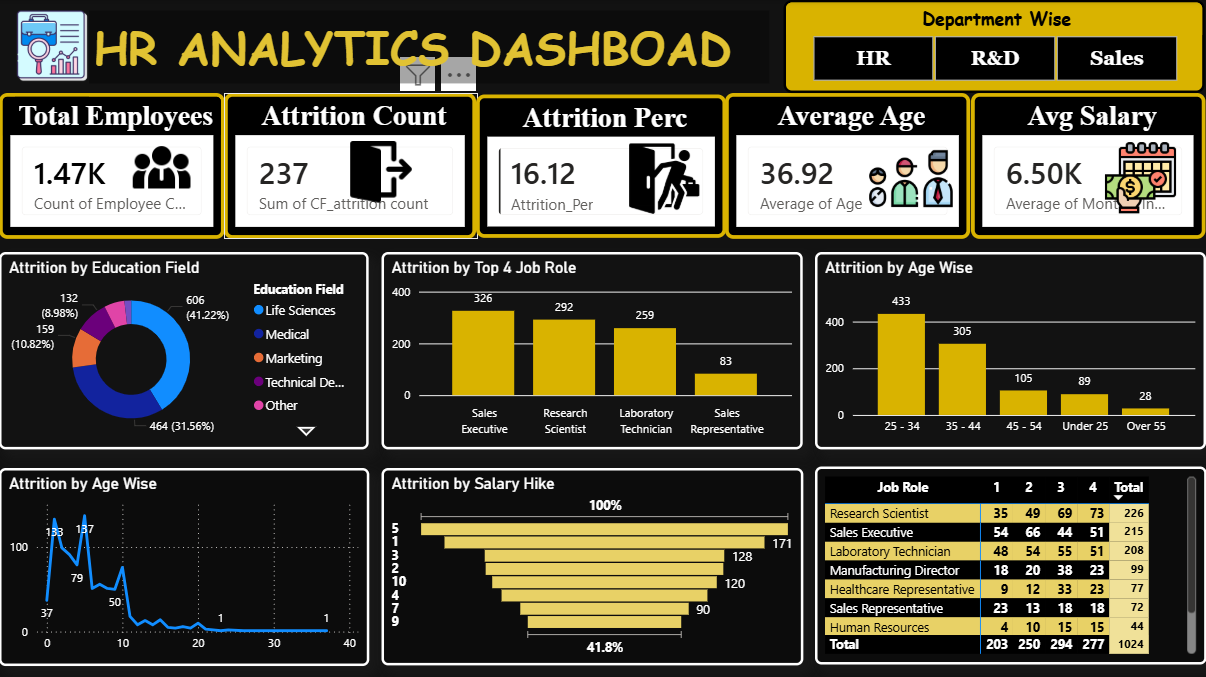

The dashboard page shown, as its layout file describes it:
{"tool":"powerbi","page":{"name":"Page 1","canvas":[1280,720],"ordinal":0},"visuals":[{"type":"cardVisual","title":"Total Employees","fields":{"Data":["CountNonNull(Data.Employee Count)"]},"box":[0,98,239.3,154.5],"z":0},{"type":"cardVisual","title":"Average Age","fields":{"Data":["Avg(Data.Age)"]},"box":[770.6,98,260,154.5],"z":1000},{"type":"cardVisual","title":"Attrition Count","fields":{"Data":["Sum(Data.CF_attrition count)"]},"box":[239.3,98,267.6,154.5],"z":2000},{"type":"cardVisual","title":"Attrition Perc","fields":{"Data":["Data.Attrition_Per"]},"box":[506,100.8,265.3,152.2],"z":3000},{"type":"cardVisual","title":"Avg Salary","fields":{"Data":["Avg(Data.Monthly Income)"]},"box":[1030.7,98,248.7,154.5],"z":4000},{"type":"donutChart","title":"Attrition by Education Field","fields":{"Category":["Data.Education Field"],"Y":["CountNonNull(Data.Attrition)"]},"box":[0,267.6,391.9,209.1],"z":5000},{"type":"columnChart","title":"Attrition by Top 4 Job Role","fields":{"Y":["CountNonNull(Data.Attrition)"],"Category":["Data.Job Role"]},"box":[405.1,267.6,446.6,209.1],"z":6000},{"type":"columnChart","title":"Attrition by Age Wise","fields":{"Y":["CountNonNull(Data.Attrition)"],"Category":["Data.CF_age band"]},"box":[864.9,267.6,414.5,209.1],"z":7000},{"type":"lineChart","title":"Attrition by Age Wise","fields":{"Y":["CountNonNull(Data.CF_age band)"],"Category":["Data.Years At Company"]},"box":[0,495.7,392.8,209.8],"z":8000},{"type":"textbox","box":[96.1,11.3,721.7,77.3],"z":9000},{"type":"funnel","title":"Attrition by Salary Hike","fields":{"Category":["Data.Years At Company"],"Y":["CountNonNull(Data.CF_age band)"]},"box":[405,495.6,447.3,209.5],"z":10000},{"type":"slicer","title":"Department Wise","fields":{"Values":["Data.Department"]},"box":[831.9,0,447,98.6],"z":11000},{"type":"image","box":[17.5,6.4,77.9,84.3],"z":12000},{"type":"image","box":[130.4,144.7,84.3,65.2],"z":13000},{"type":"image","box":[668.1,144.7,74.8,89.1],"z":14000},{"type":"image","box":[919.4,144.7,95.4,89.1],"z":15000},{"type":"image","box":[1167.5,149.5,85.9,77.9],"z":16000},{"type":"image","box":[361.1,149.5,87.5,65.2],"z":17000},{"type":"pivotTable","title":"Attrition by Age Wise","fields":{"Values":["CountNonNull(Data.CF_age band)"],"Rows":["Data.Job Role"],"Columns":["Data.Job Satisfaction"]},"box":[865.3,494.7,415.1,210],"z":18000}]}

Visuals, with their boxes in screenshot pixels (x1, y1, x2, y2), scaled from the page's 1280x720 canvas onto the 1206x677 screenshot:
"Total Employees" cardVisual: (0, 92, 225, 237)
"Average Age" cardVisual: (726, 92, 971, 237)
"Attrition Count" cardVisual: (225, 92, 478, 237)
"Attrition Perc" cardVisual: (477, 95, 727, 238)
"Avg Salary" cardVisual: (971, 92, 1205, 237)
"Attrition by Education Field" donutChart: (0, 252, 369, 448)
"Attrition by Top 4 Job Role" columnChart: (382, 252, 802, 448)
"Attrition by Age Wise" columnChart: (815, 252, 1205, 448)
"Attrition by Age Wise" lineChart: (0, 466, 370, 663)
textbox: (91, 11, 771, 83)
"Attrition by Salary Hike" funnel: (382, 466, 803, 663)
"Department Wise" slicer: (784, 0, 1205, 93)
image: (16, 6, 90, 85)
image: (123, 136, 202, 197)
image: (629, 136, 700, 220)
image: (866, 136, 956, 220)
image: (1100, 141, 1181, 214)
image: (340, 141, 423, 202)
"Attrition by Age Wise" pivotTable: (815, 465, 1205, 663)
